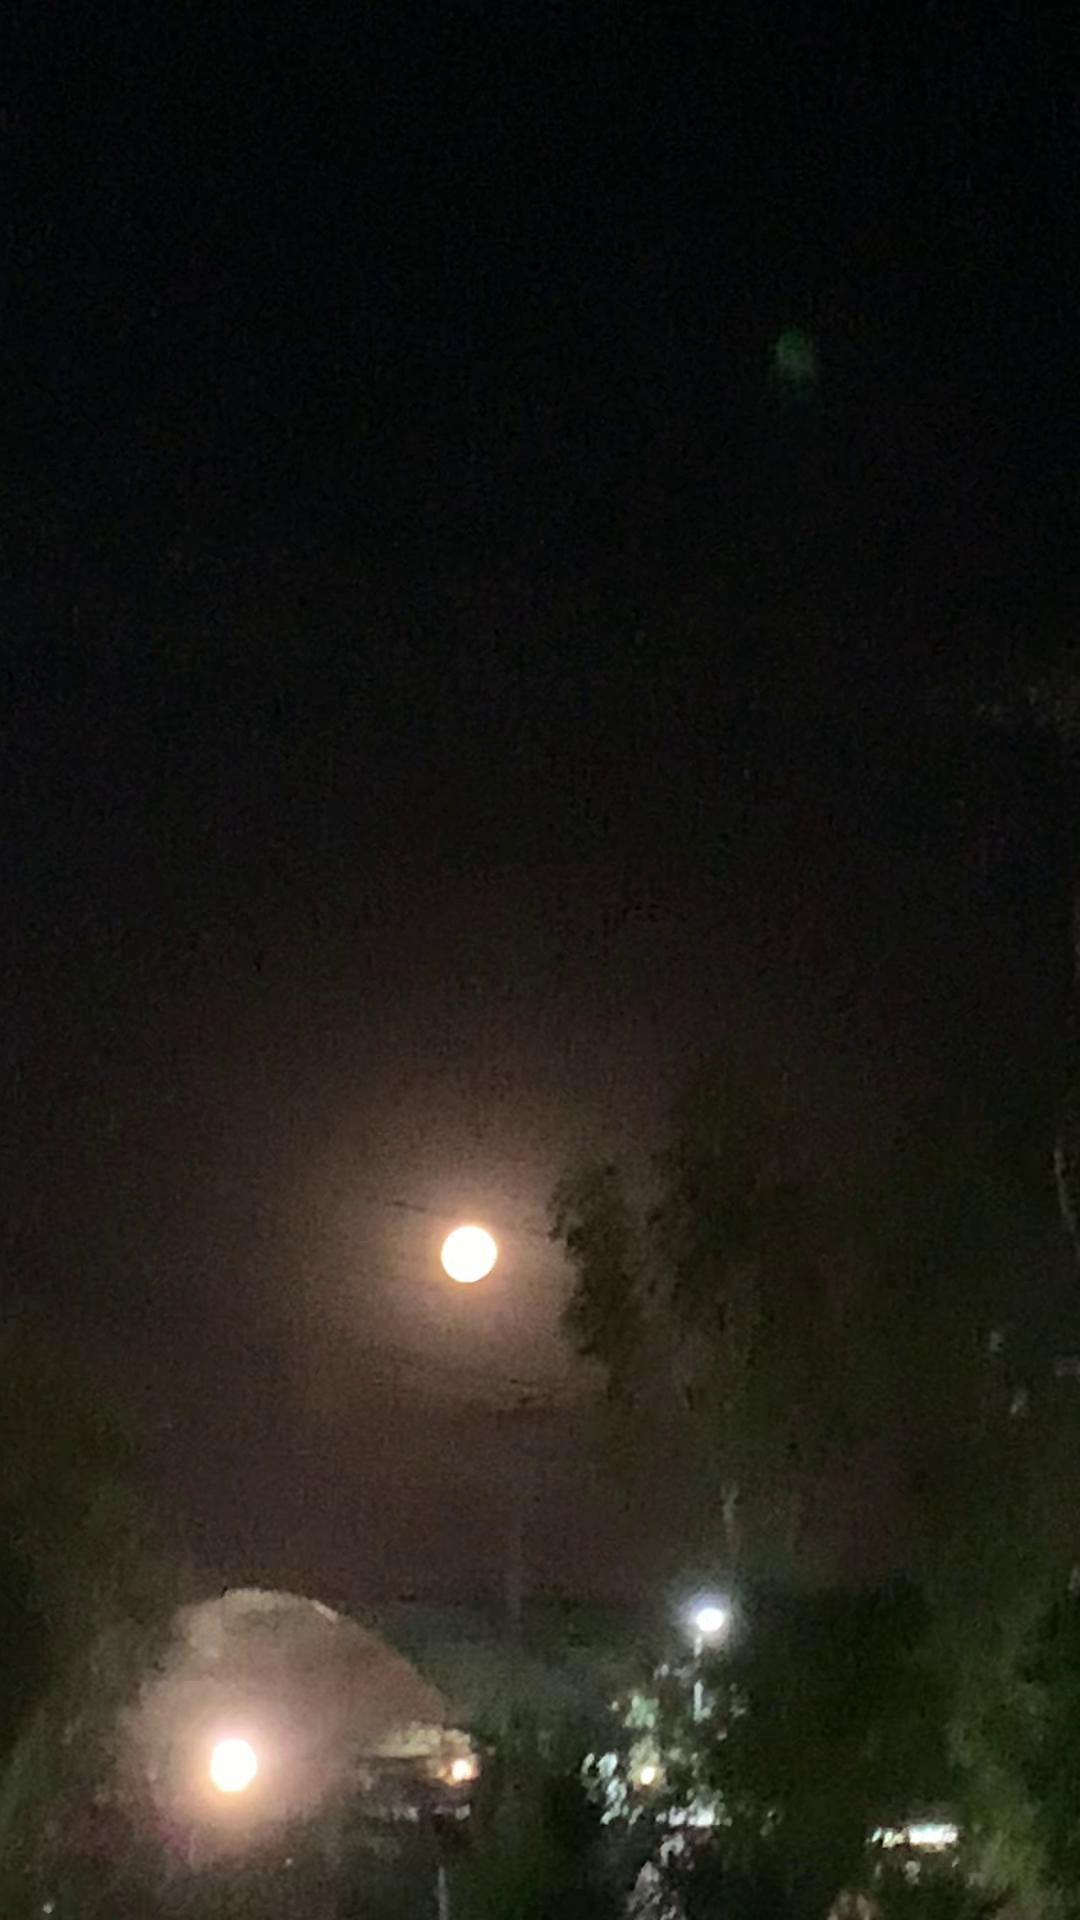moon: (426, 1224, 497, 1295)
